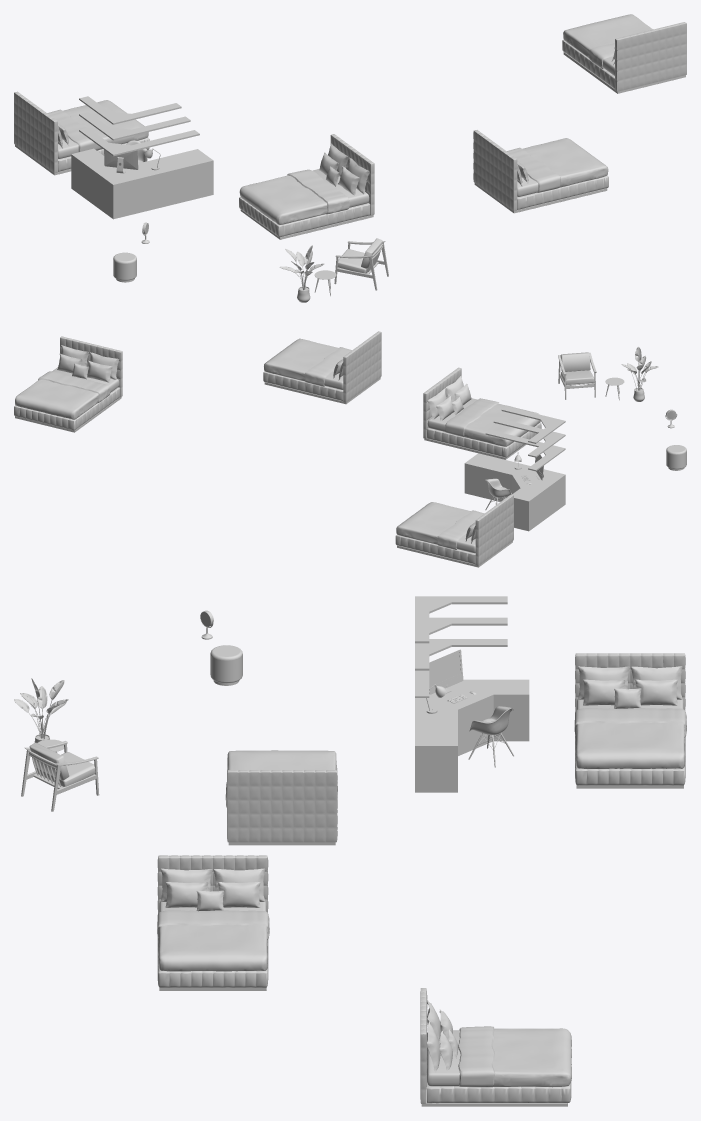
Rendered from EB03__Storey__FirstFloor__ProposedFurniture__MeshModel__.glb.
The picture shows the model from 3 angles, top to bottom: view 1: azimuth 30°, elevation 25°; view 2: azimuth 150°, elevation 25°; view 3: azimuth 270°, elevation 25°; orthographic projection. The views are drawn at different scales.
Parts seen in each view (by area): view 1: 28_21__BedroomFurniture__KingBed__Var-01__Whitecard___ID2229 (×3), 28__ProposedBuilding__Furniture::Default, 28_21__BedroomFurniture__KingBed__Var-01__Whitecard___ID2217; view 2: 28_21__BedroomFurniture__KingBed__Var-01__Whitecard___ID2229 (×3), 28__ProposedBuilding__Furniture::Default, 28_21__BedroomFurniture__KingBed__Var-01__Whitecard___ID2217, 29_21__Collection__BedroomDecor__KingBedPillows__Whitecard_1 (×2); view 3: 28_21__BedroomFurniture__KingBed__Var-01__Whitecard___ID2229 (×3), 28__ProposedBuilding__Furniture::Default, 28_21__BedroomFurniture__KingBed__Var-01__Whitecard___ID2217, 29_21__Collection__BedroomDecor__KingBedPillows__Whitecard_1 (×2).
Boxes of the visible parts, <box> form: 28_21__BedroomFurniture__KingBed__Var-01__Whitecard___ID2229 (×3): <box>14,14,686,213</box>; 28__ProposedBuilding__Furniture::Default: <box>71,96,388,302</box>; 28_21__BedroomFurniture__KingBed__Var-01__Whitecard___ID2217: <box>239,134,374,239</box>; 28_21__BedroomFurniture__KingBed__Var-01__Whitecard___ID2229 (×3): <box>14,331,513,567</box>; 28__ProposedBuilding__Furniture::Default: <box>464,346,686,531</box>; 28_21__BedroomFurniture__KingBed__Var-01__Whitecard___ID2217: <box>423,367,541,459</box>; 29_21__Collection__BedroomDecor__KingBedPillows__Whitecard_1 (×2): <box>58,345,471,420</box>; 28_21__BedroomFurniture__KingBed__Var-01__Whitecard___ID2229 (×3): <box>157,653,686,1106</box>; 28__ProposedBuilding__Furniture::Default: <box>14,596,529,811</box>; 28_21__BedroomFurniture__KingBed__Var-01__Whitecard___ID2217: <box>225,750,337,845</box>; 29_21__Collection__BedroomDecor__KingBedPillows__Whitecard_1 (×2): <box>161,666,682,910</box>.
Bounding box in the file's own units: 14.14 × 2.01 × 9.43.
2 materials, 1 textured.
